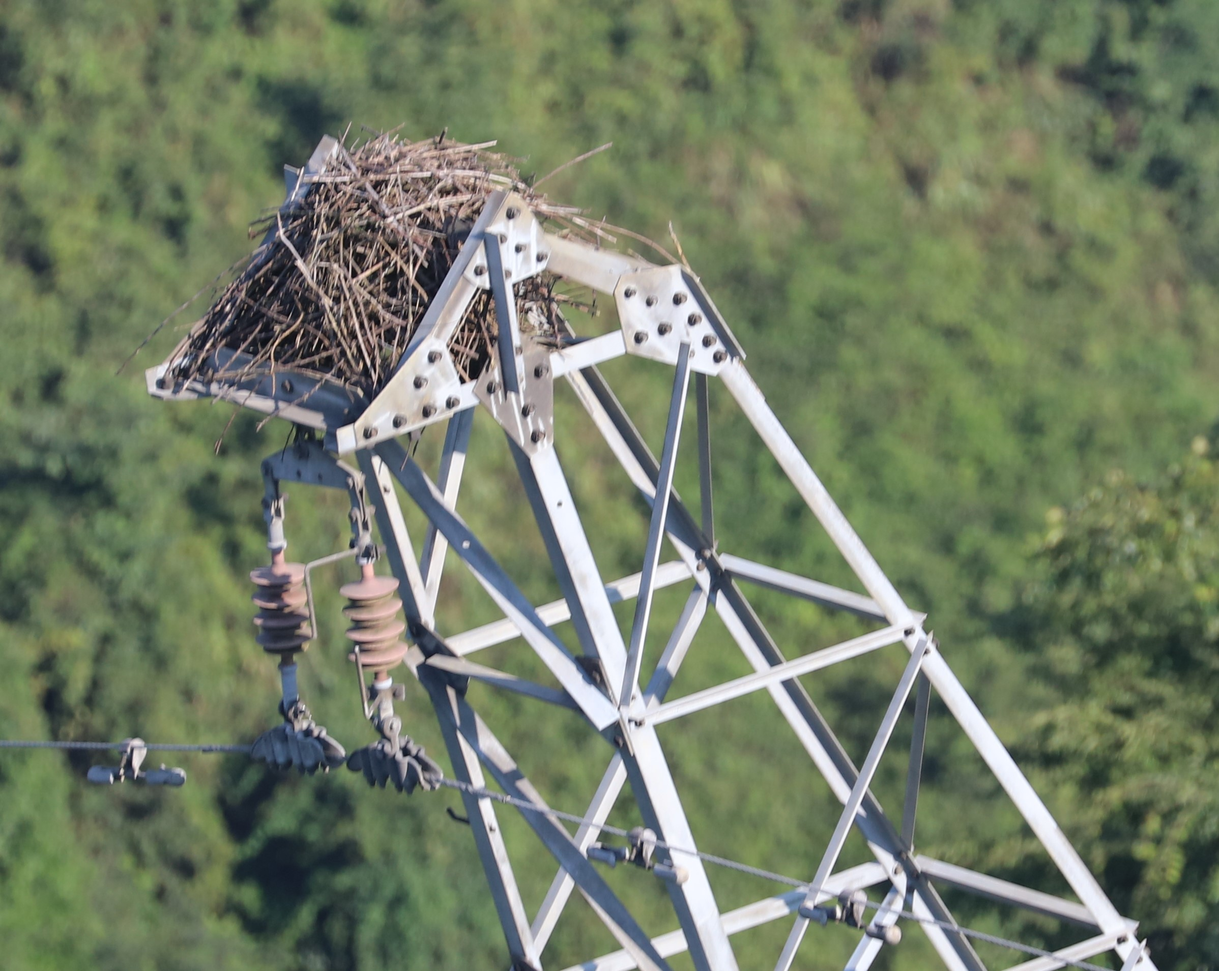damper: (792, 884, 907, 952), (581, 822, 692, 889), (79, 732, 190, 791)
nest: (164, 139, 573, 399)
